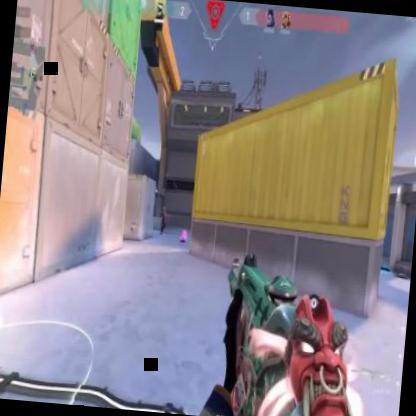enemy: (159, 204, 168, 236)
enemy_head: (162, 206, 166, 214)
